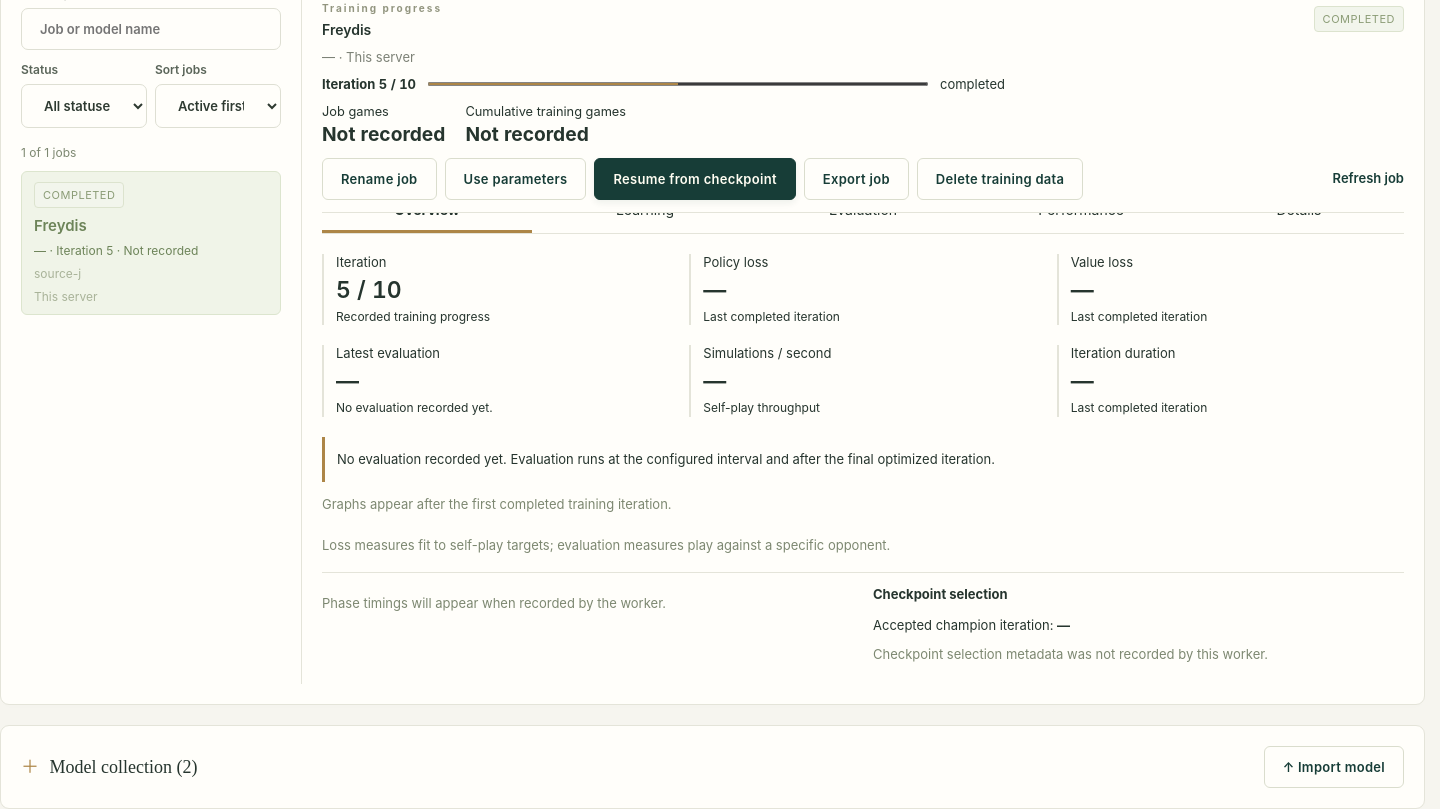
opens checkpoint resumption from the linked model card and keeps an imported model inference-only
The width and height of the screenshot is (1440, 809).
(page scrolled)
Expected: the tab "Overview" is shown, [322,189,532,233]
Click the button "＋ Model collection (2)" at coordinates (109, 767), box [21,756,198,779]
(page scrolled)
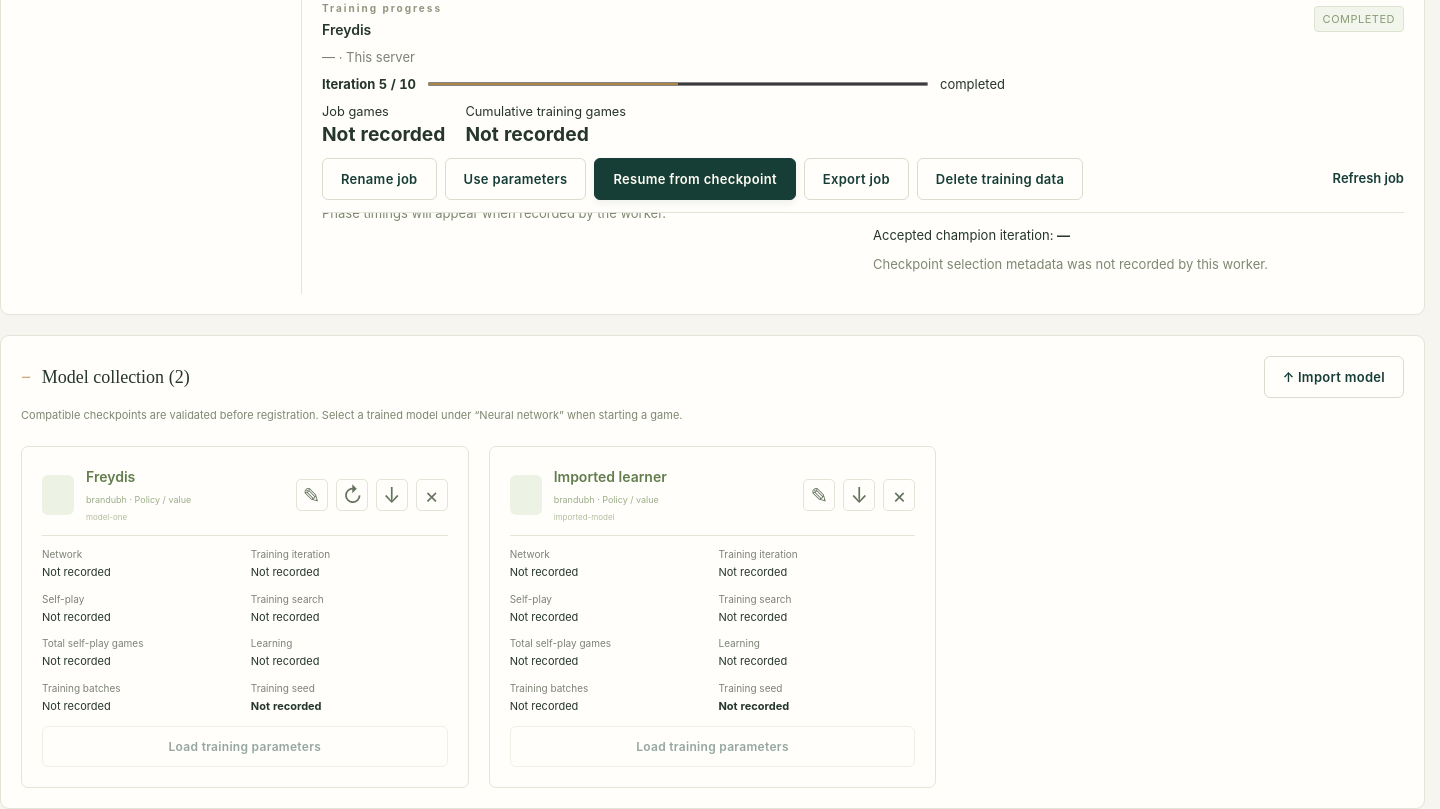
Click the button named "Resume training for Freydis" at coordinates (352, 495), box [336,479,368,511]
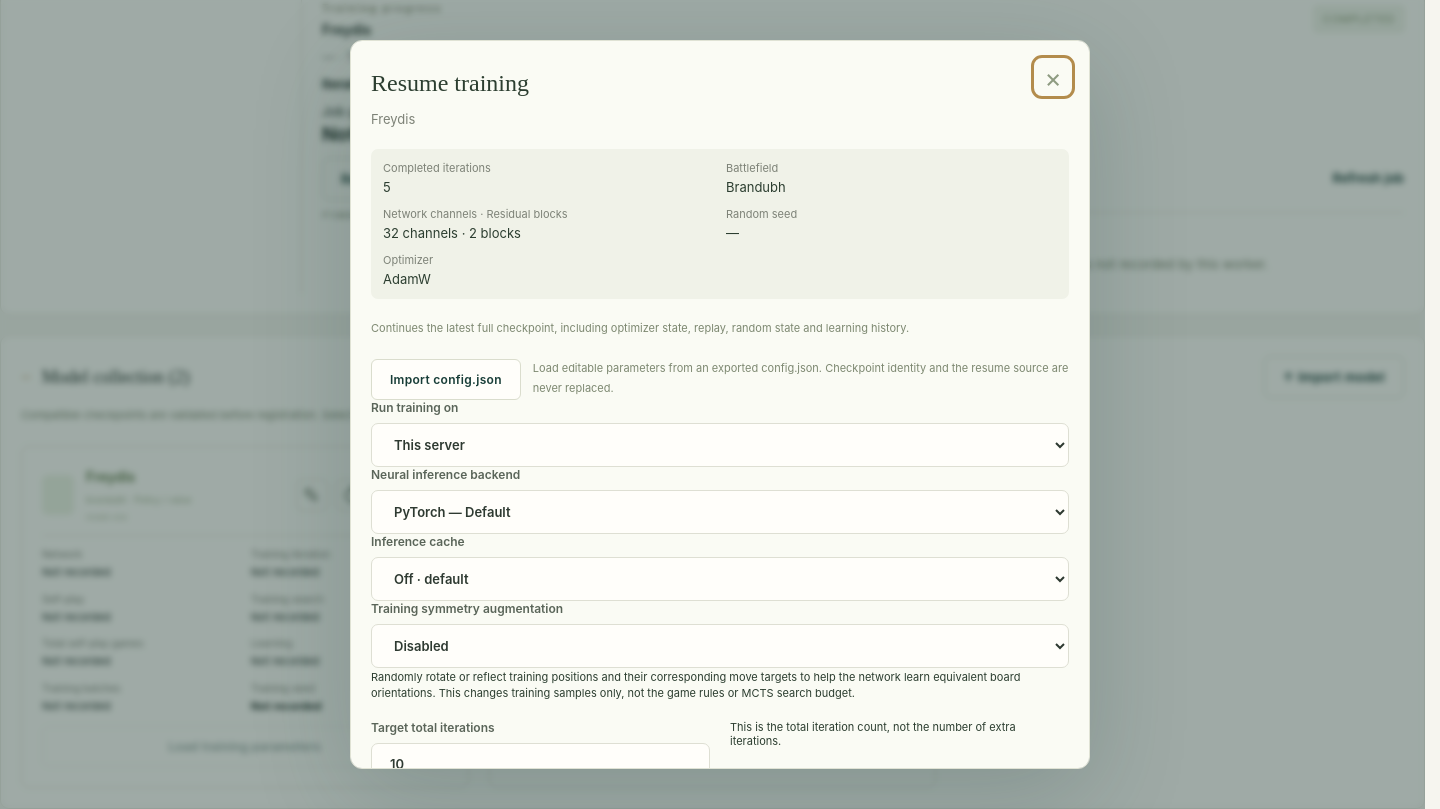
Expected: the dialog "Resume training" is shown, [350,40,1090,768]
Expected: the number field labelled "Target total iterations" holds "10", [371,743,710,768]
